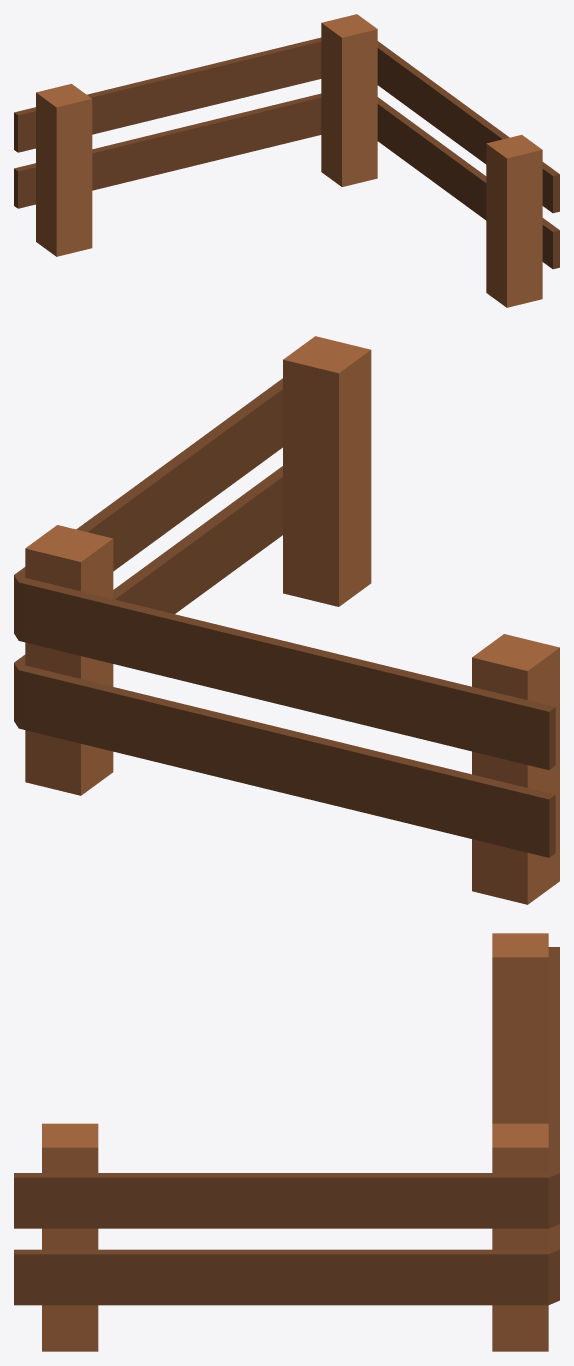
Rendered from fenceCorner.glb.
The picture shows the model from 3 angles, top to bottom: view 1: azimuth 30°, elevation 25°; view 2: azimuth 150°, elevation 25°; view 3: azimuth 270°, elevation 25°; orthographic projection. The views are drawn at different scales.
Parts seen in each view (by area): view 1: fenceCorner; view 2: fenceCorner; view 3: fenceCorner.
Part boxes in pixels (box(x1,y1,x2,y2)): fenceCorner: box(14, 14, 559, 307); fenceCorner: box(14, 336, 559, 904); fenceCorner: box(14, 933, 559, 1351).
Size of the model in its own units: 0.97 by 0.4 by 0.97.
